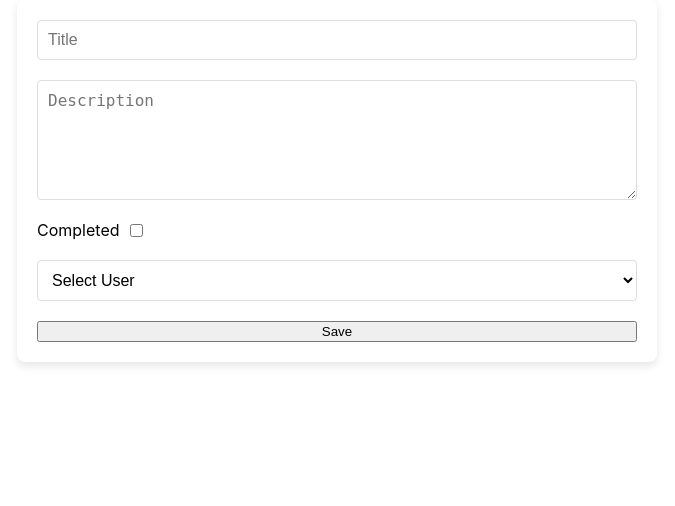
Test: TaskForm Component › validates form fields
The width and height of the screenshot is (675, 506).
Expected: the dropdown is shown, [37, 260, 637, 301]
Step 1. Click the button "Save" → (337, 332), box [37, 321, 637, 342]
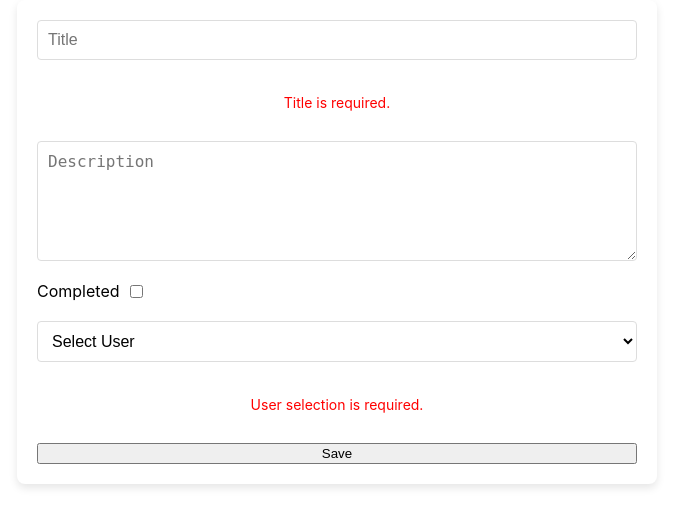
Expected: the text "Title is required." is shown, [284, 94, 390, 111]
Expected: the text "User selection is required." is shown, [251, 396, 423, 413]
